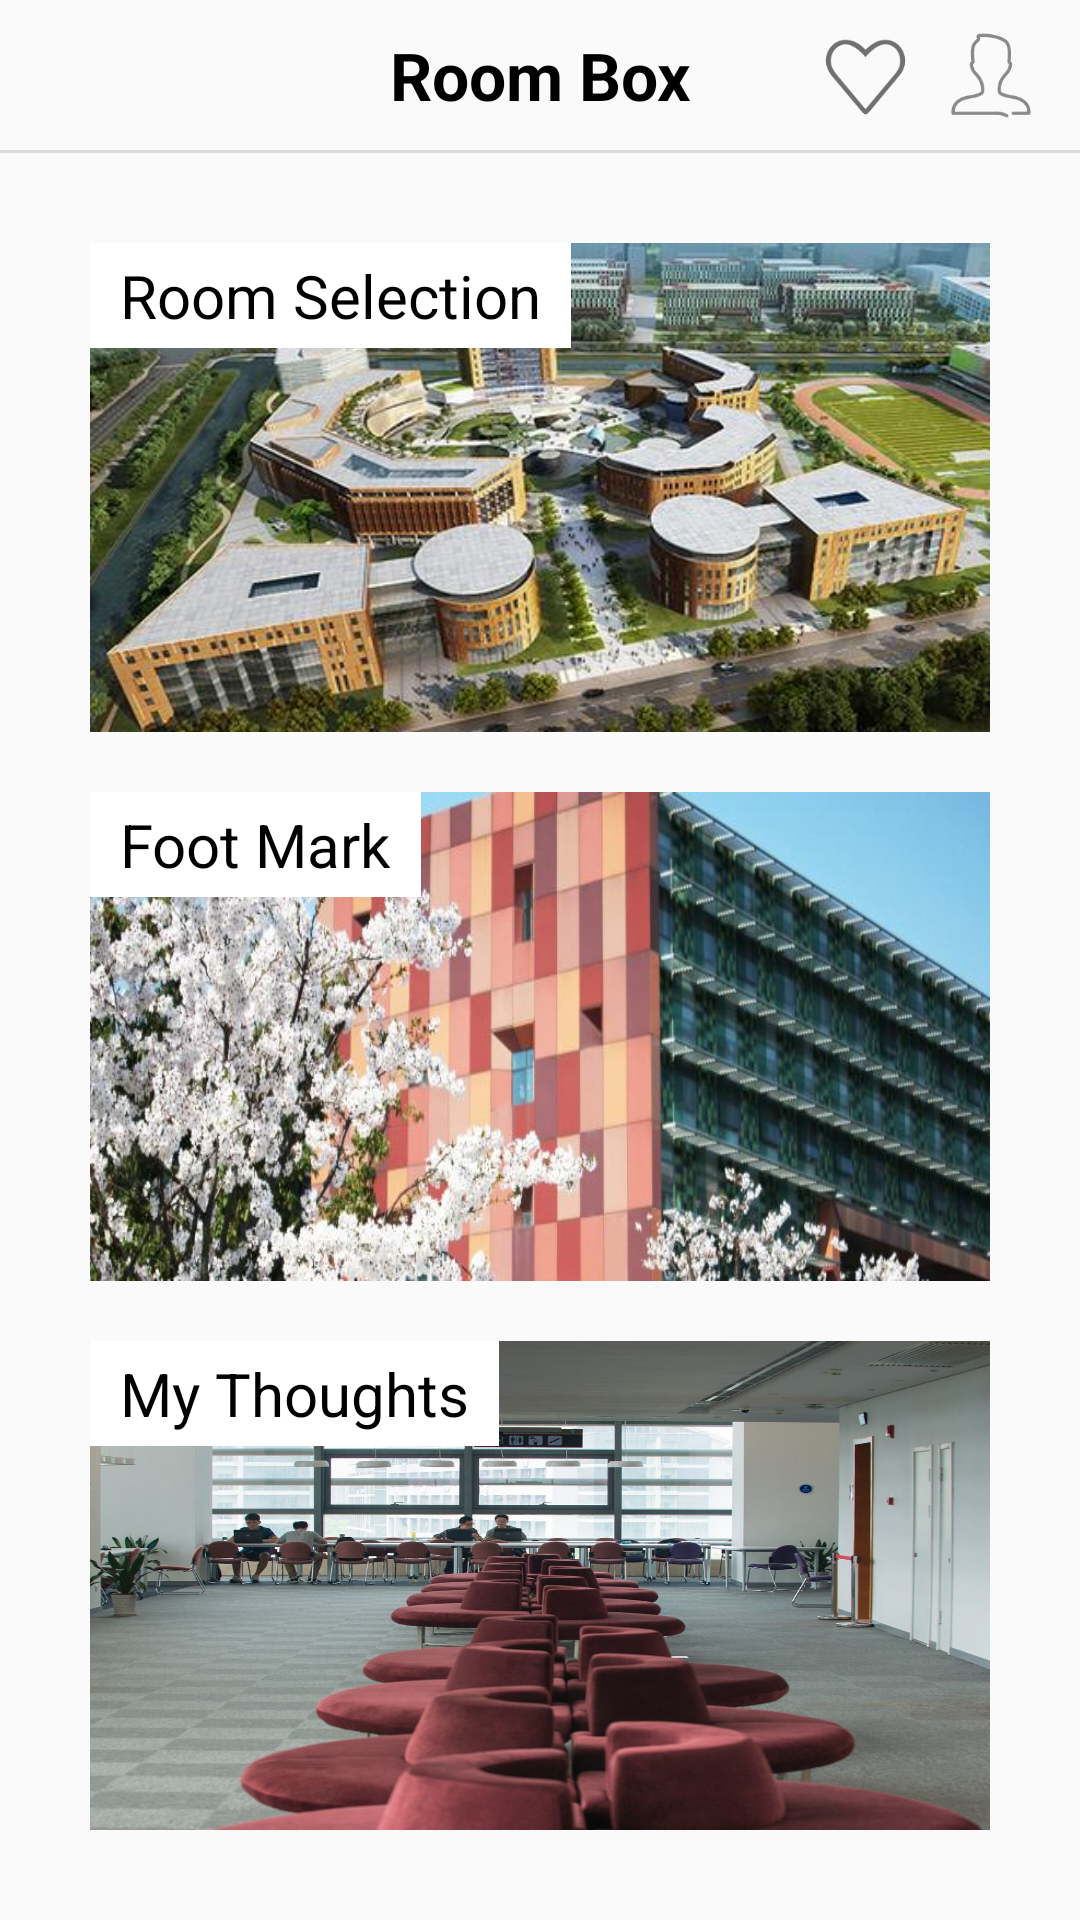

Icon bounding boxes for this 1080*1920 phone screenshot, format region(x1, y1, x2, y2):
like: region(825, 39, 906, 115)
user: region(951, 33, 1031, 118)
